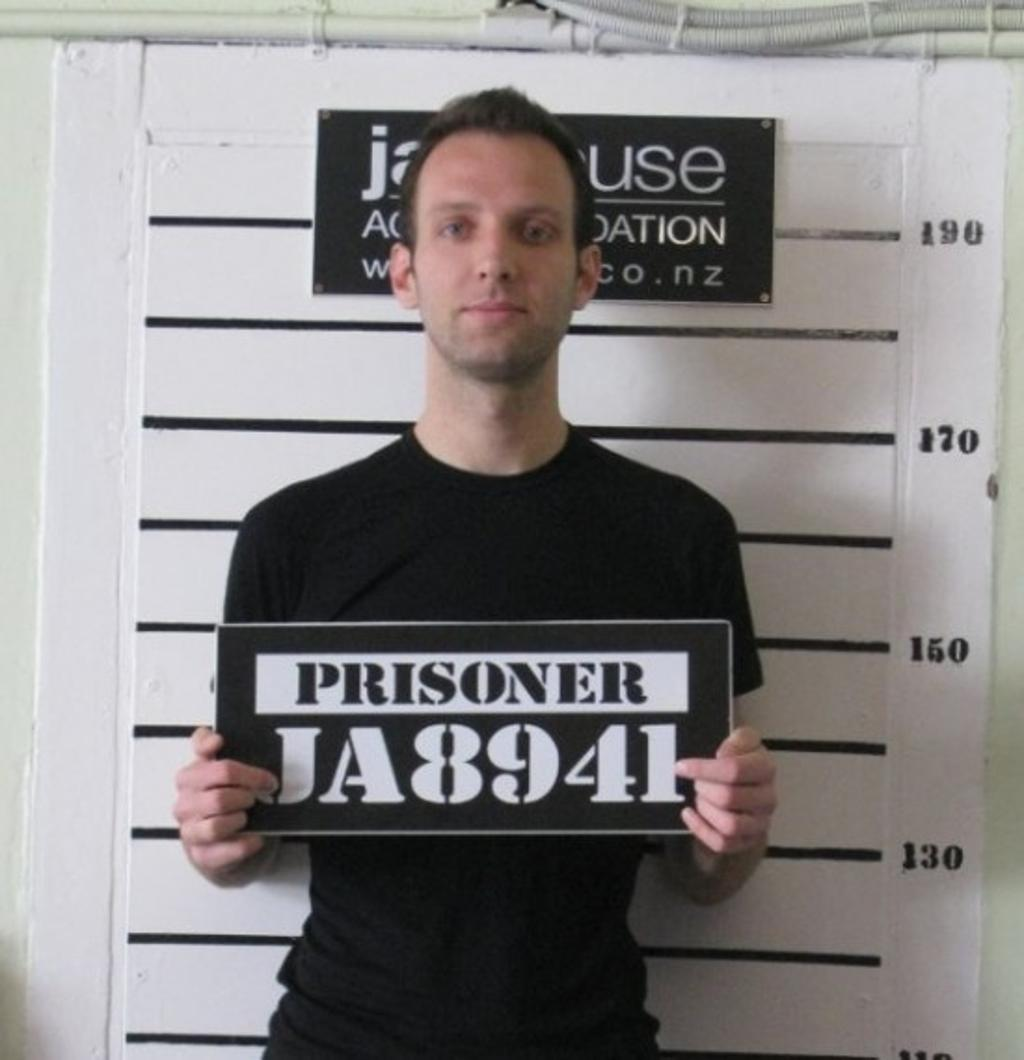face: (412, 124, 573, 374)
